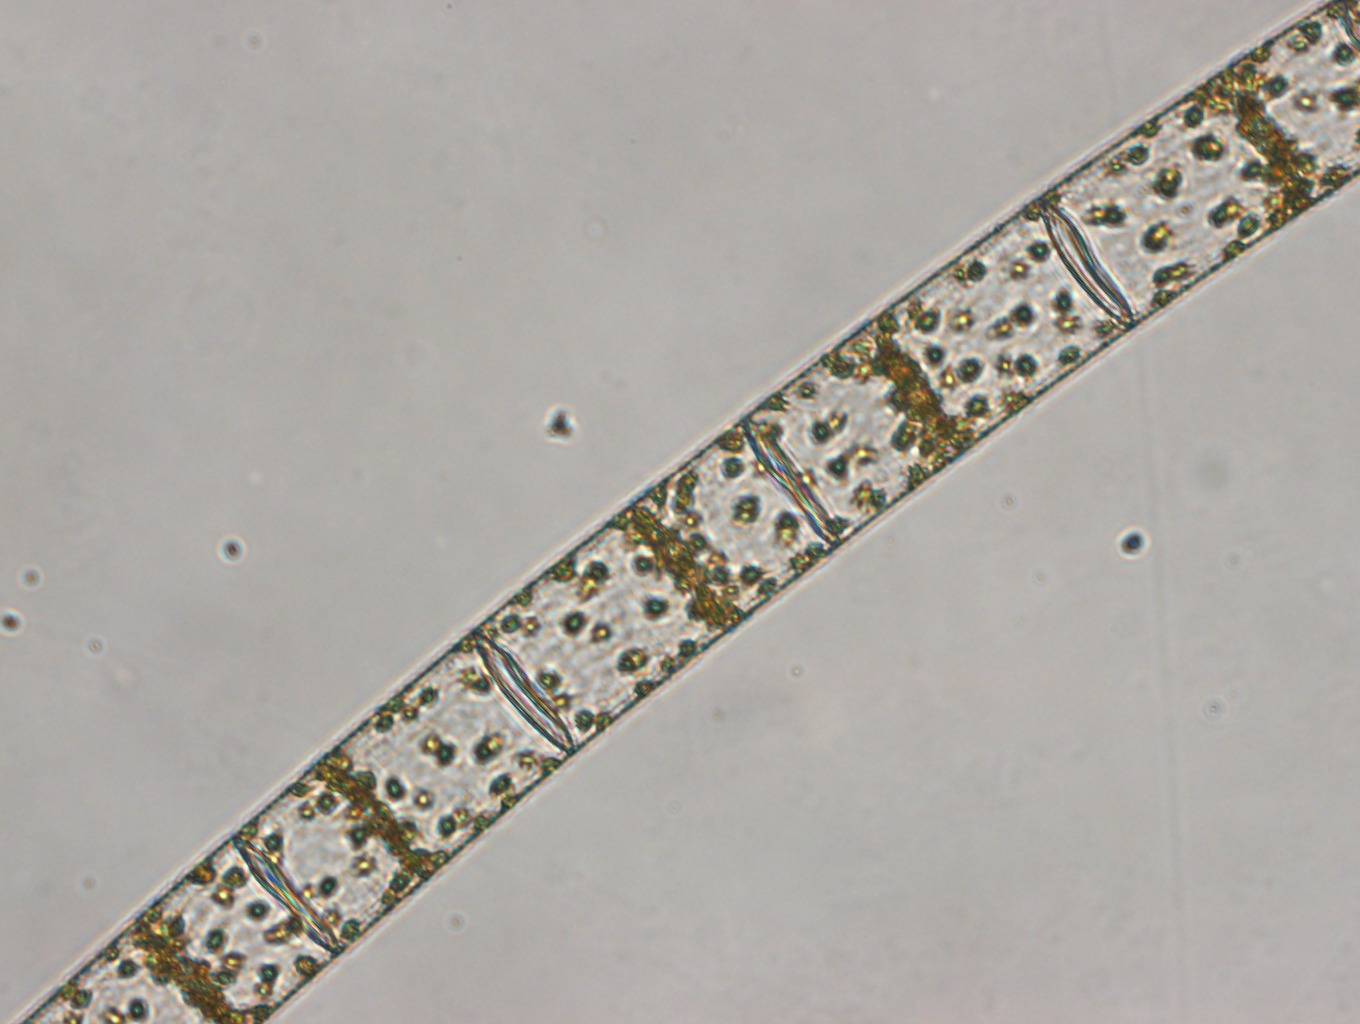guinardia flaccida: (19, 1, 1360, 1024)
